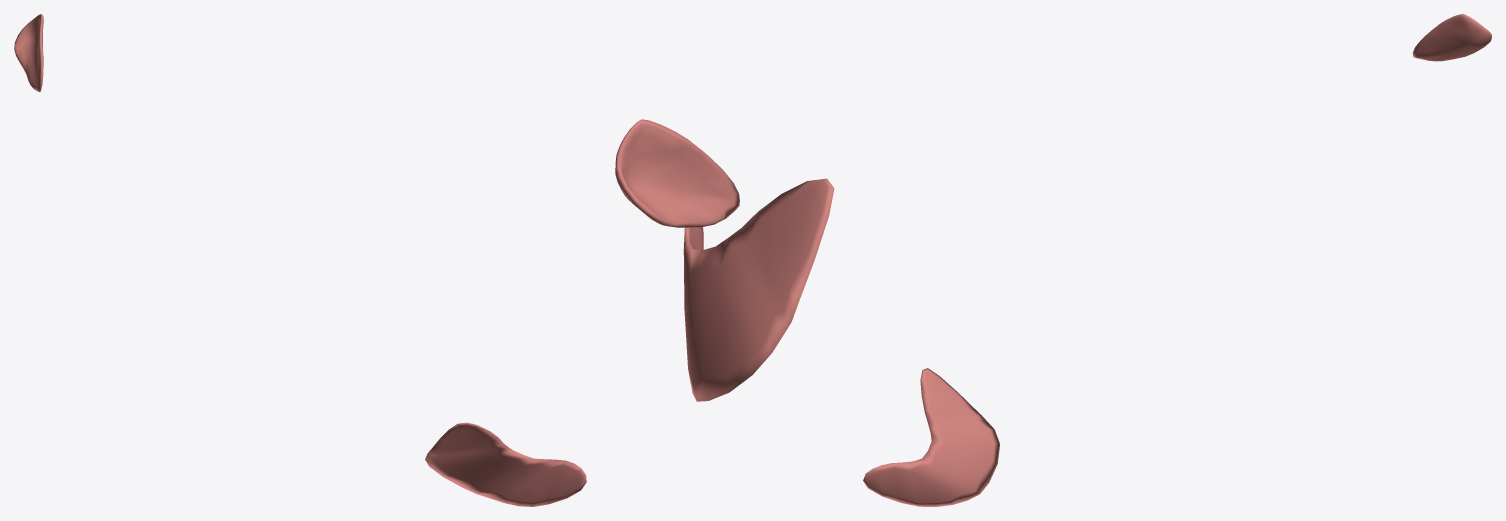
The picture shows the model from 3 angles, left to right: view 1: azimuth 30°, elevation 25°; view 2: azimuth 150°, elevation 25°; view 3: azimuth 270°, elevation 25°; orthographic projection. The views are drawn at different scales.
Parts seen in each view (by area): view 1: ZA_7c5e852c9c171452; view 2: ZA_7c5e852c9c171452; view 3: ZA_7c5e852c9c171452.
Boxes of the visible parts, x1,y1,x2,y2 form: ZA_7c5e852c9c171452: (14,14,586,506); ZA_7c5e852c9c171452: (615,119,834,401); ZA_7c5e852c9c171452: (863,14,1491,506).
Bounding box in the file's own units: 0.0397 × 0.0485 × 0.0728.
